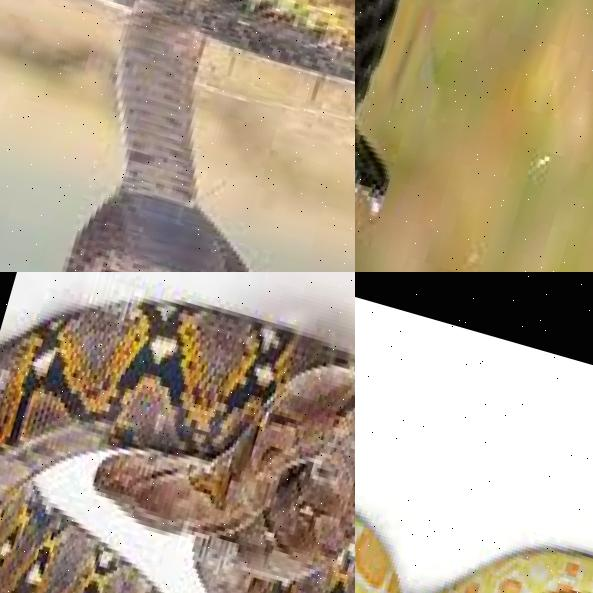snake: (0, 272, 355, 593), (0, 0, 355, 272), (355, 423, 593, 593), (355, 0, 488, 272)
